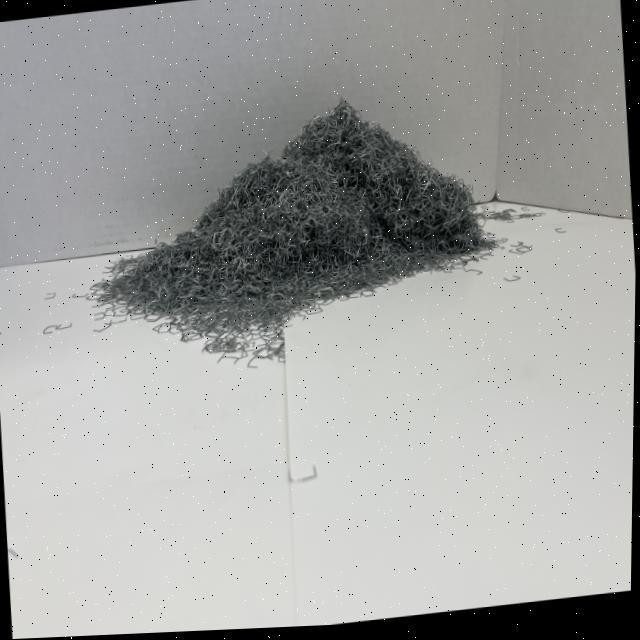staples: (71, 78, 500, 387)
